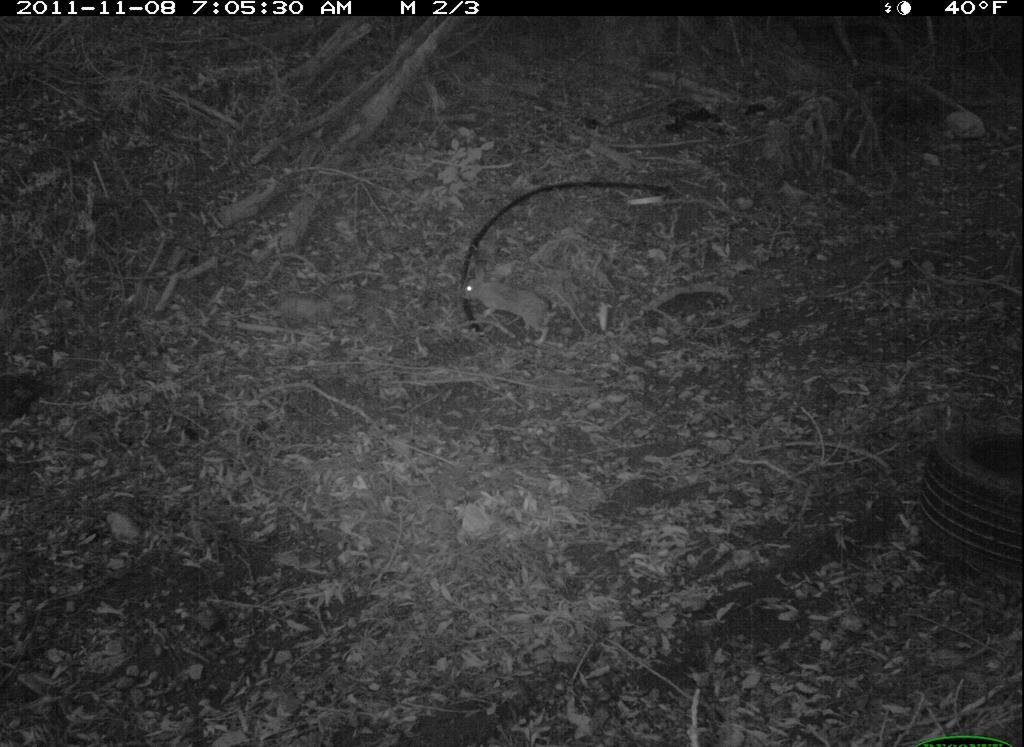rabbit: (451, 255, 597, 347)
